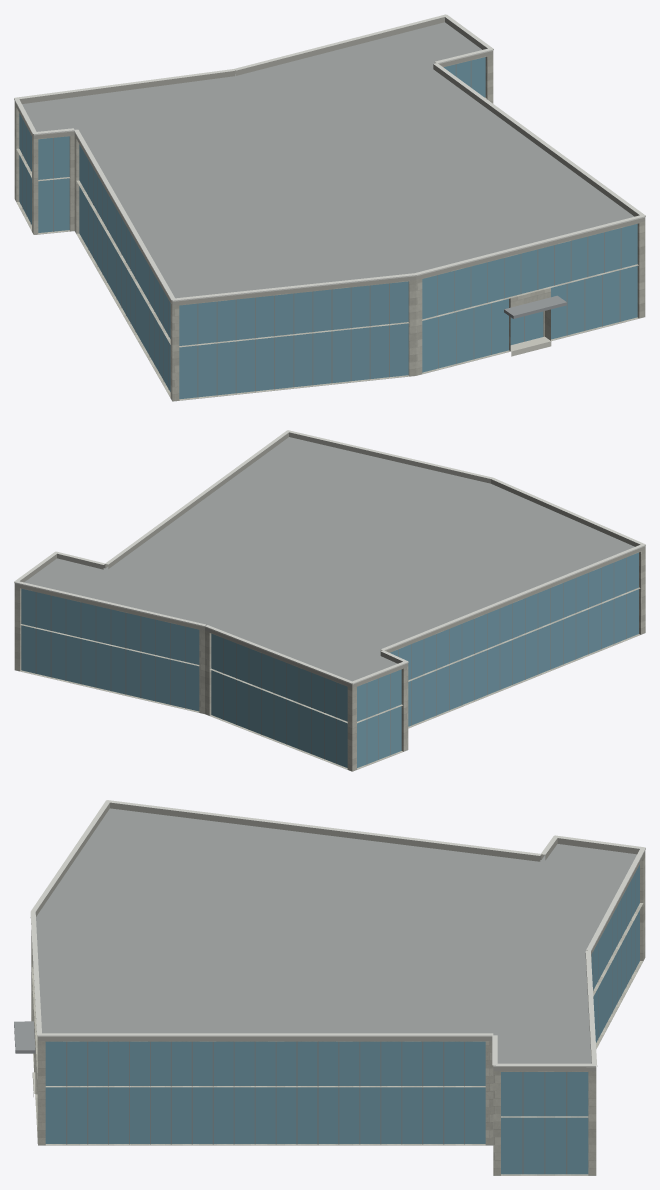
The picture shows the model from 3 angles, top to bottom: view 1: azimuth 30°, elevation 25°; view 2: azimuth 150°, elevation 25°; view 3: azimuth 270°, elevation 25°; orthographic projection. The views are drawn at different scales.
Visible parts, largest first — view 1: unist-batch-osm480637371__parapet, osm480637371__glass, osm480637371__wall, osm480637371__trim, osm480637371__frame, osm480637371__canopy; view 2: unist-batch-osm480637371__parapet, osm480637371__glass, osm480637371__wall, osm480637371__frame, osm480637371__trim; view 3: unist-batch-osm480637371__parapet, osm480637371__glass, osm480637371__wall, osm480637371__trim, osm480637371__frame, osm480637371__canopy.
Part boxes in pixels (bbox=[...]): unist-batch-osm480637371__parapet: bbox=[14, 17, 645, 401]; osm480637371__glass: bbox=[19, 57, 637, 399]; osm480637371__wall: bbox=[14, 54, 645, 401]; osm480637371__trim: bbox=[14, 14, 645, 301]; osm480637371__frame: bbox=[22, 60, 621, 397]; osm480637371__canopy: bbox=[504, 295, 566, 318]; unist-batch-osm480637371__parapet: bbox=[14, 432, 645, 771]; osm480637371__glass: bbox=[21, 552, 638, 767]; osm480637371__wall: bbox=[14, 549, 645, 771]; osm480637371__frame: bbox=[35, 557, 626, 764]; osm480637371__trim: bbox=[14, 430, 645, 684]; unist-batch-osm480637371__parapet: bbox=[35, 802, 645, 1175]; osm480637371__glass: bbox=[45, 864, 639, 1174]; osm480637371__wall: bbox=[31, 854, 645, 1175]; osm480637371__trim: bbox=[30, 800, 645, 1067]; osm480637371__frame: bbox=[66, 872, 635, 1174]; osm480637371__canopy: bbox=[14, 1021, 35, 1053].
Bounding box in the file's own units: 44.23 × 8.95 × 44.44.
Materials: 7 (1 with a texture image).
